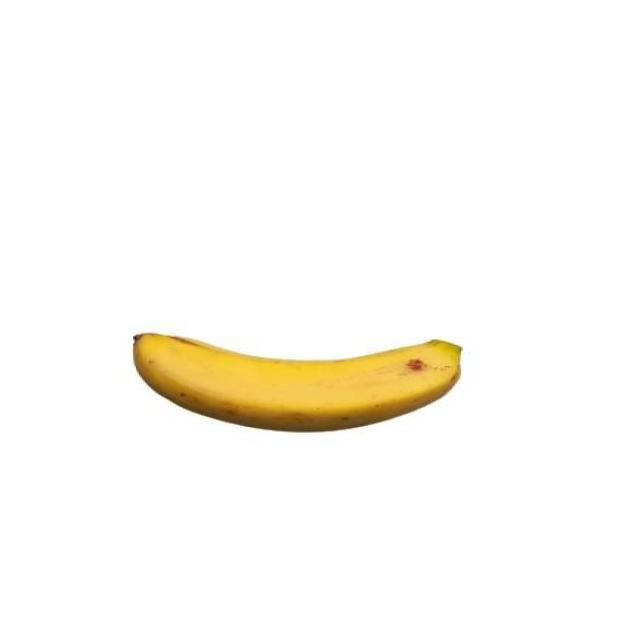Banana: (126, 326, 472, 439)
